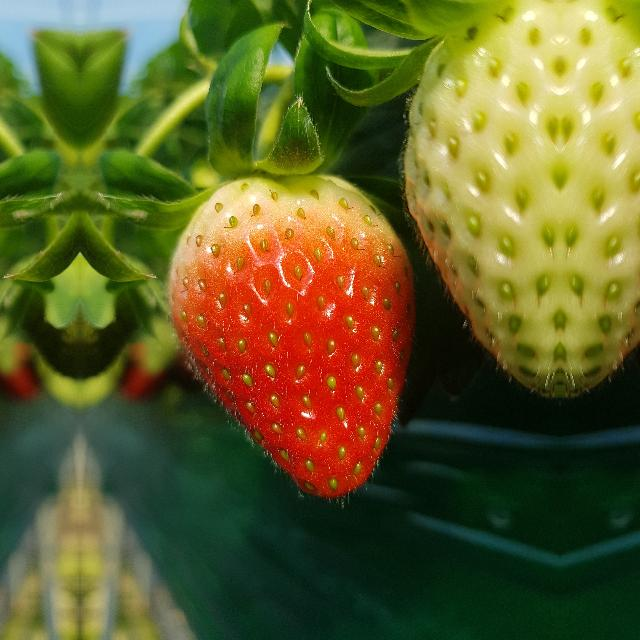Health_100: (166, 174, 417, 502)
Health_25: (405, 1, 559, 391), (561, 1, 640, 391)
